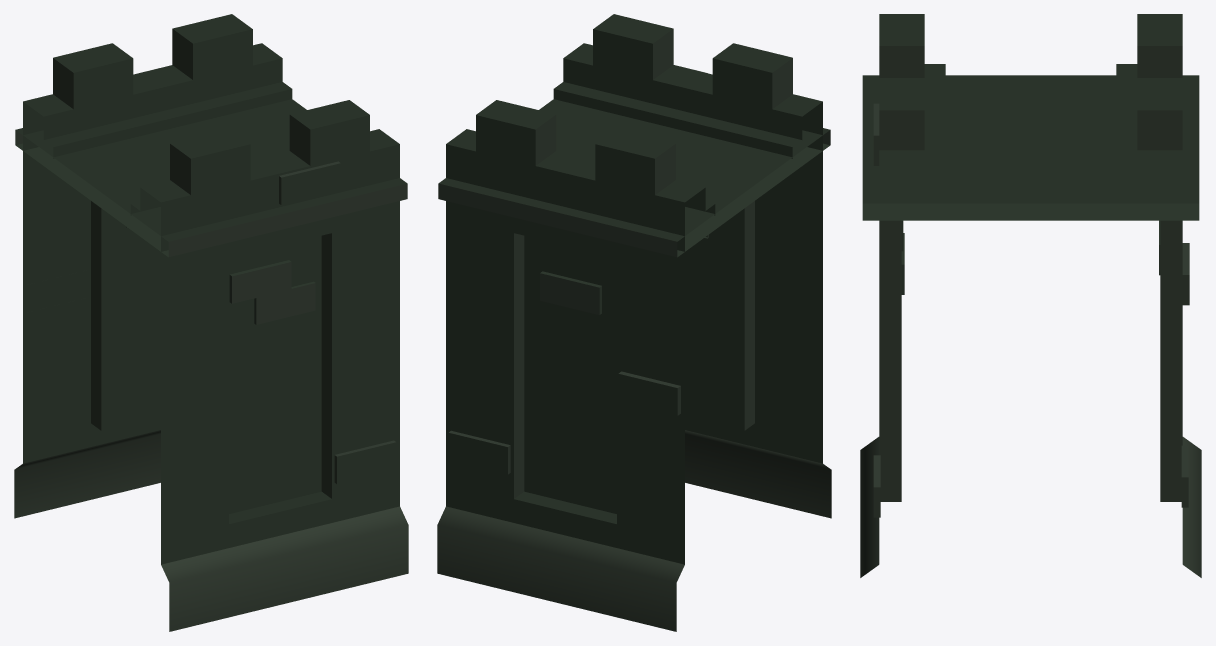
The model's file is SF_Bld_Castle_Wall_01.glb.
3 renders of one model, left to right at view 1: azimuth 30°, elevation 25°; view 2: azimuth 150°, elevation 25°; view 3: azimuth 270°, elevation 25°, orthographic. The views are drawn at different scales.
Parts seen in each view (by area): view 1: SF_Bld_Castle_Wall_01; view 2: SF_Bld_Castle_Wall_01; view 3: SF_Bld_Castle_Wall_01.
Part boxes in pixels (box(x1,y1,x2,y2)): SF_Bld_Castle_Wall_01: box(14, 14, 408, 631); SF_Bld_Castle_Wall_01: box(437, 14, 831, 631); SF_Bld_Castle_Wall_01: box(860, 14, 1201, 577).
Size of the model in its own units: 0.05 by 0.0919 by 0.0562.
1 material, 1 textured.
